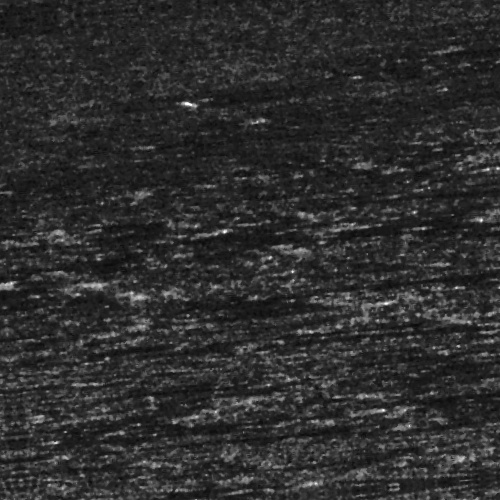object: (477, 229, 500, 256), (0, 250, 41, 261), (493, 342, 500, 347)
shadow: (364, 191, 500, 228), (329, 229, 500, 256), (348, 342, 500, 347)
